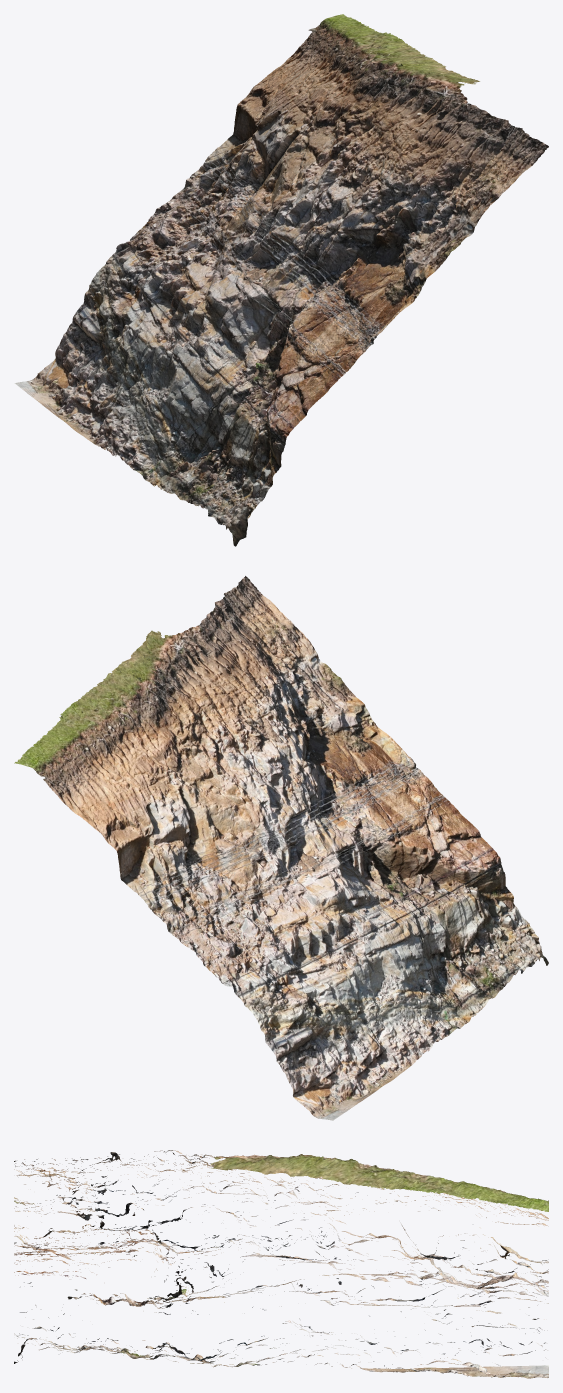
The picture shows the model from 3 angles, top to bottom: view 1: azimuth 30°, elevation 25°; view 2: azimuth 150°, elevation 25°; view 3: azimuth 270°, elevation 25°; orthographic projection. The views are drawn at different scales.
Bounding box in the file's own units: 13.06 × 12.38 × 15.26.
Materials: 3 (3 with a texture image).
